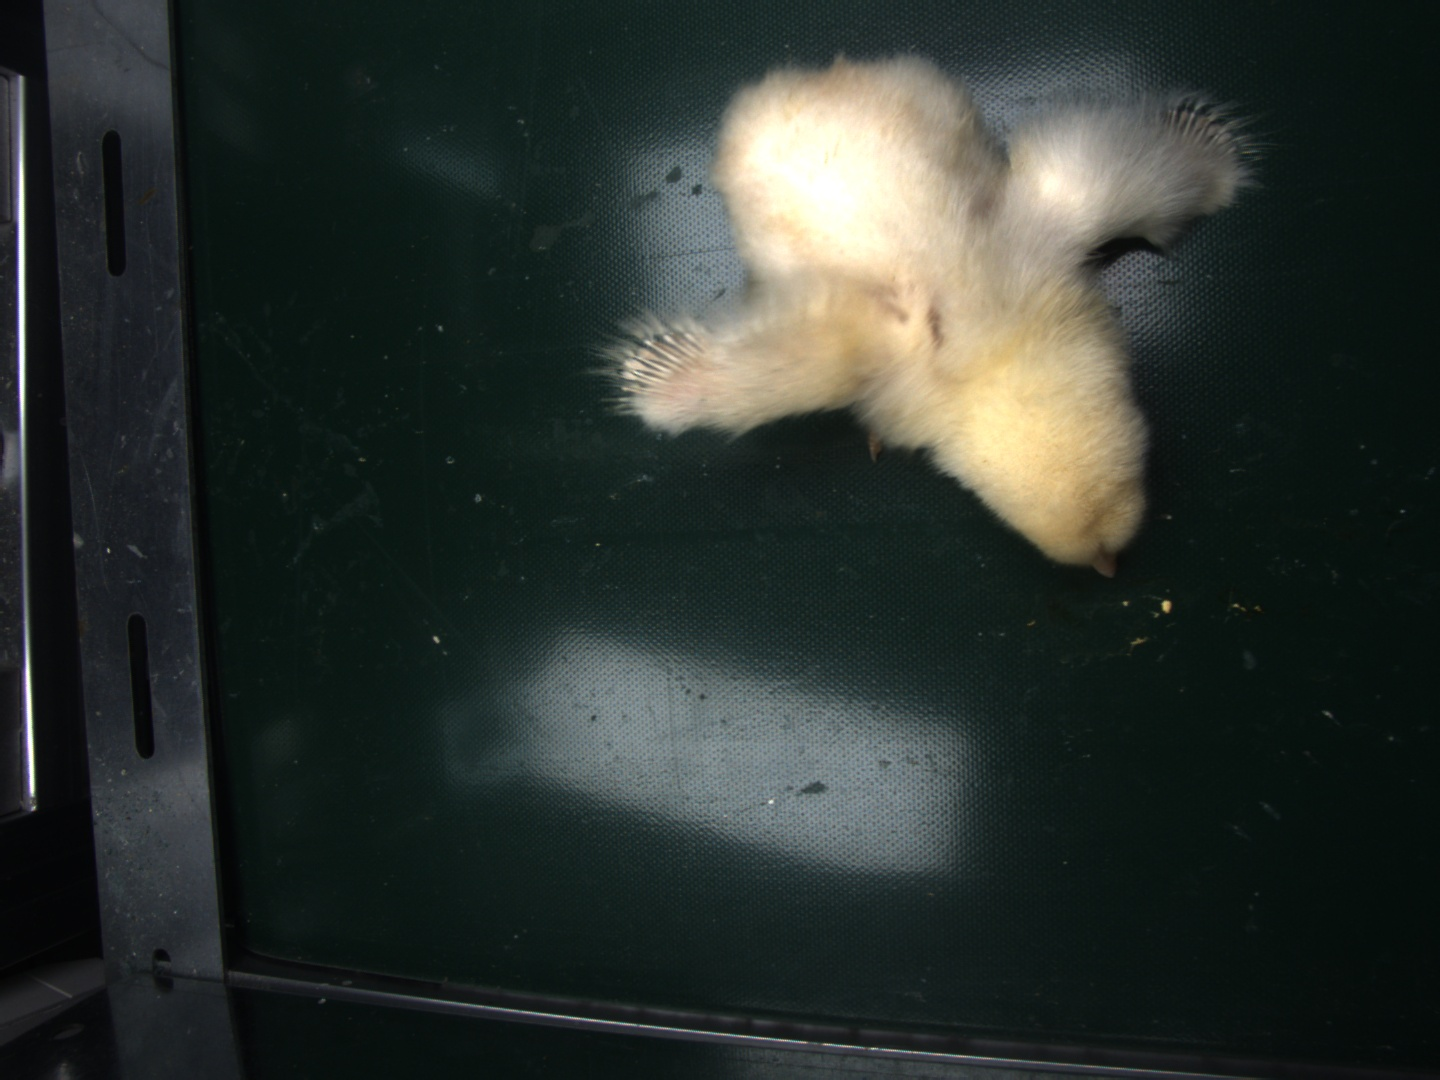male: (625, 328, 710, 394)
